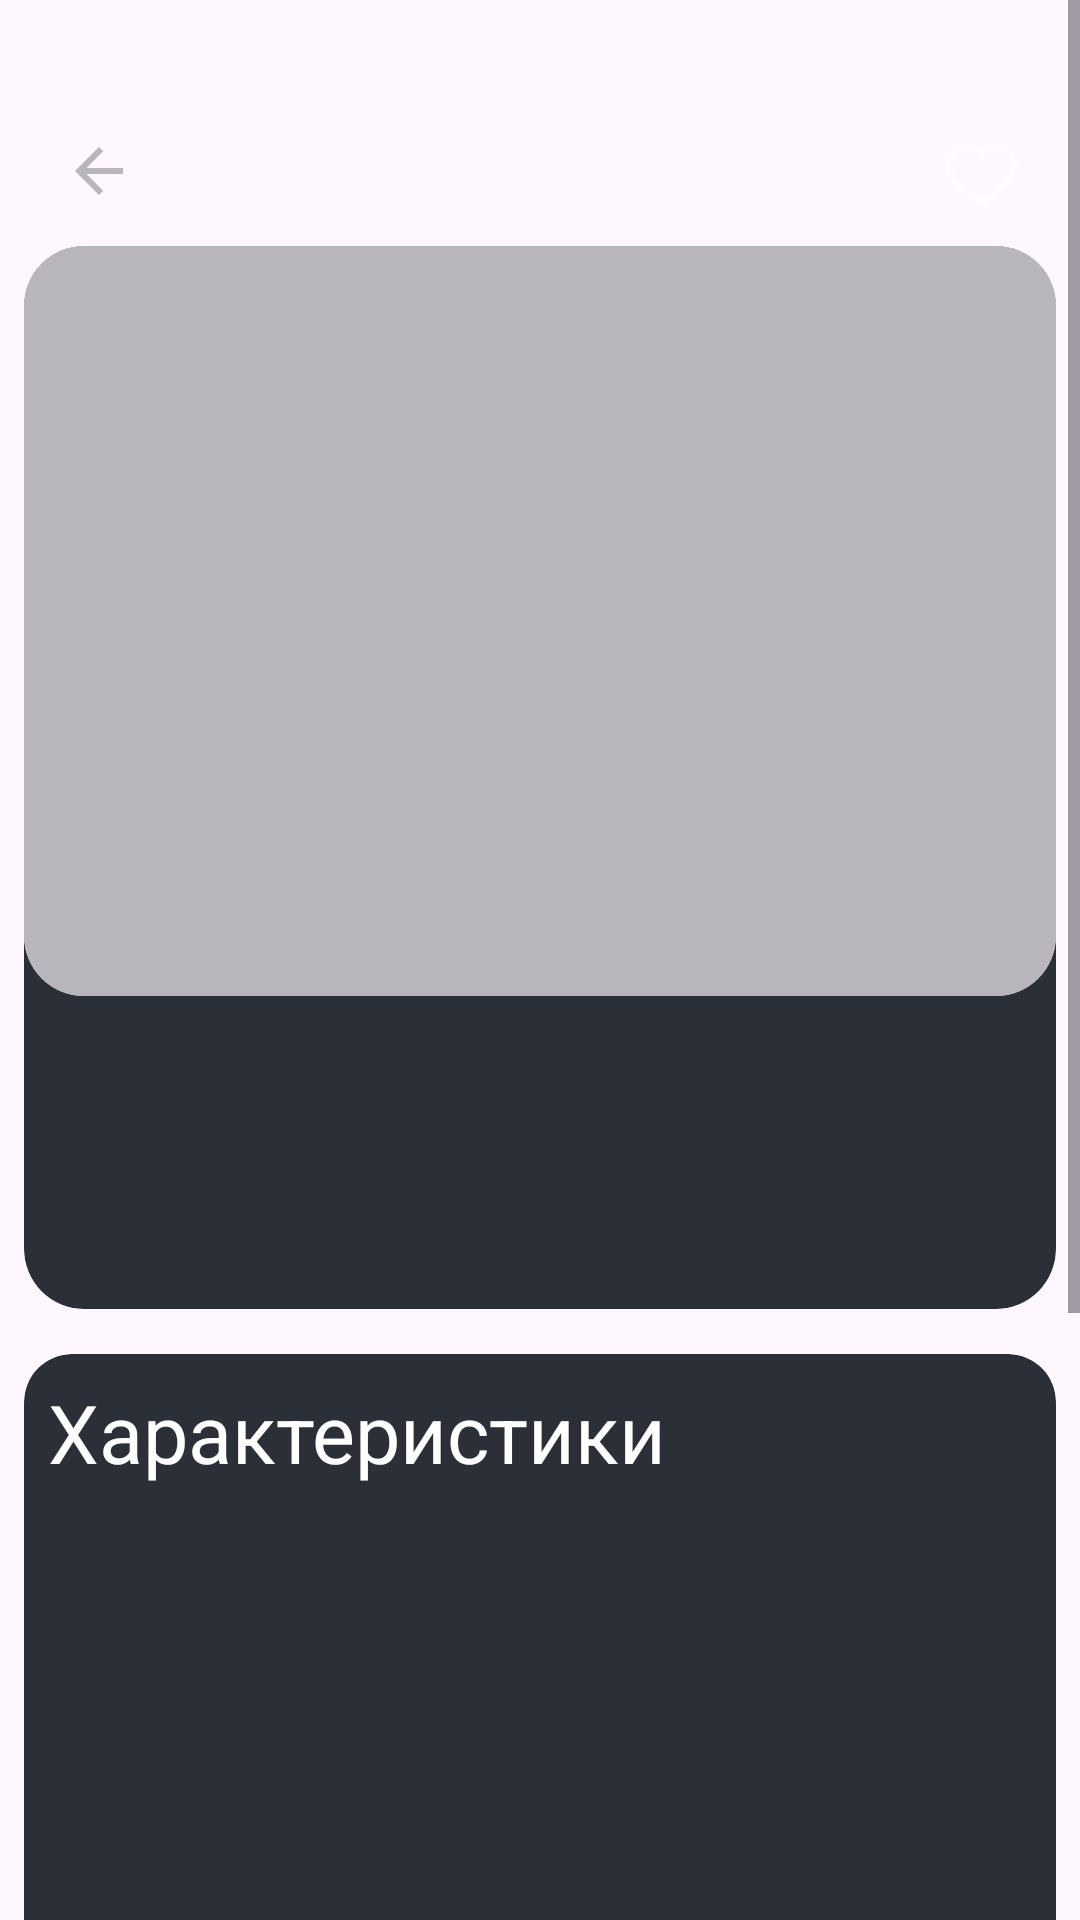

Named icons in this screenshot (1080 x 1920) and their centers, (x=x, y=y):
back: (x=99, y=171)
